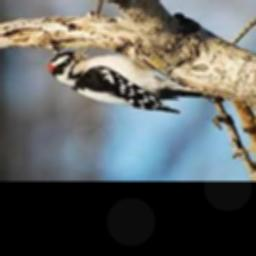Woodpecker: (49, 46, 224, 112)
